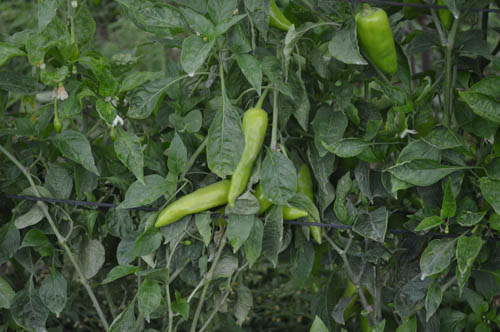ChiliPepper: (147, 176, 247, 235), (224, 103, 272, 216), (348, 5, 404, 76), (287, 157, 326, 244), (265, 3, 305, 42)
